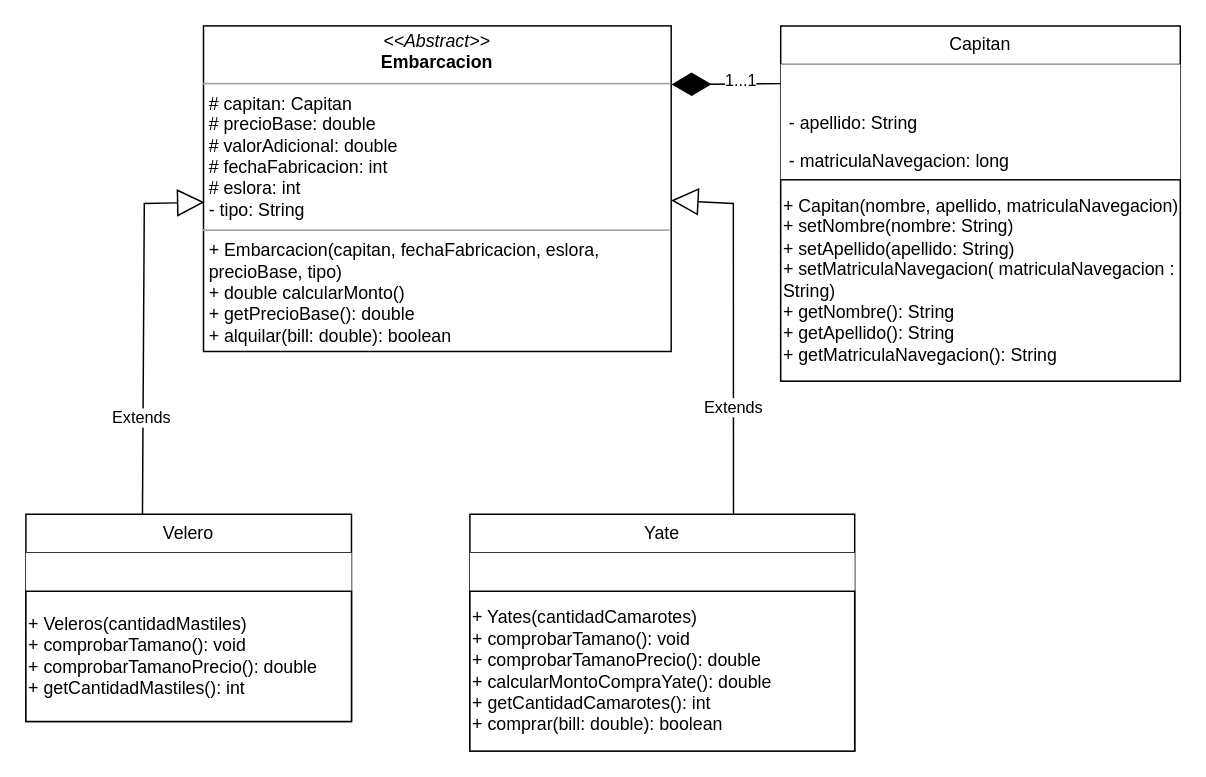
Image size: 1206x777. Some labels were removed from this diagram. Each missing label, with the centre of its shape:
"- cantidadCamarotes: int" goes at point (661, 571).
"- cantidadMastiles: int" goes at point (188, 571).
"- nombre: String" goes at point (980, 83).
